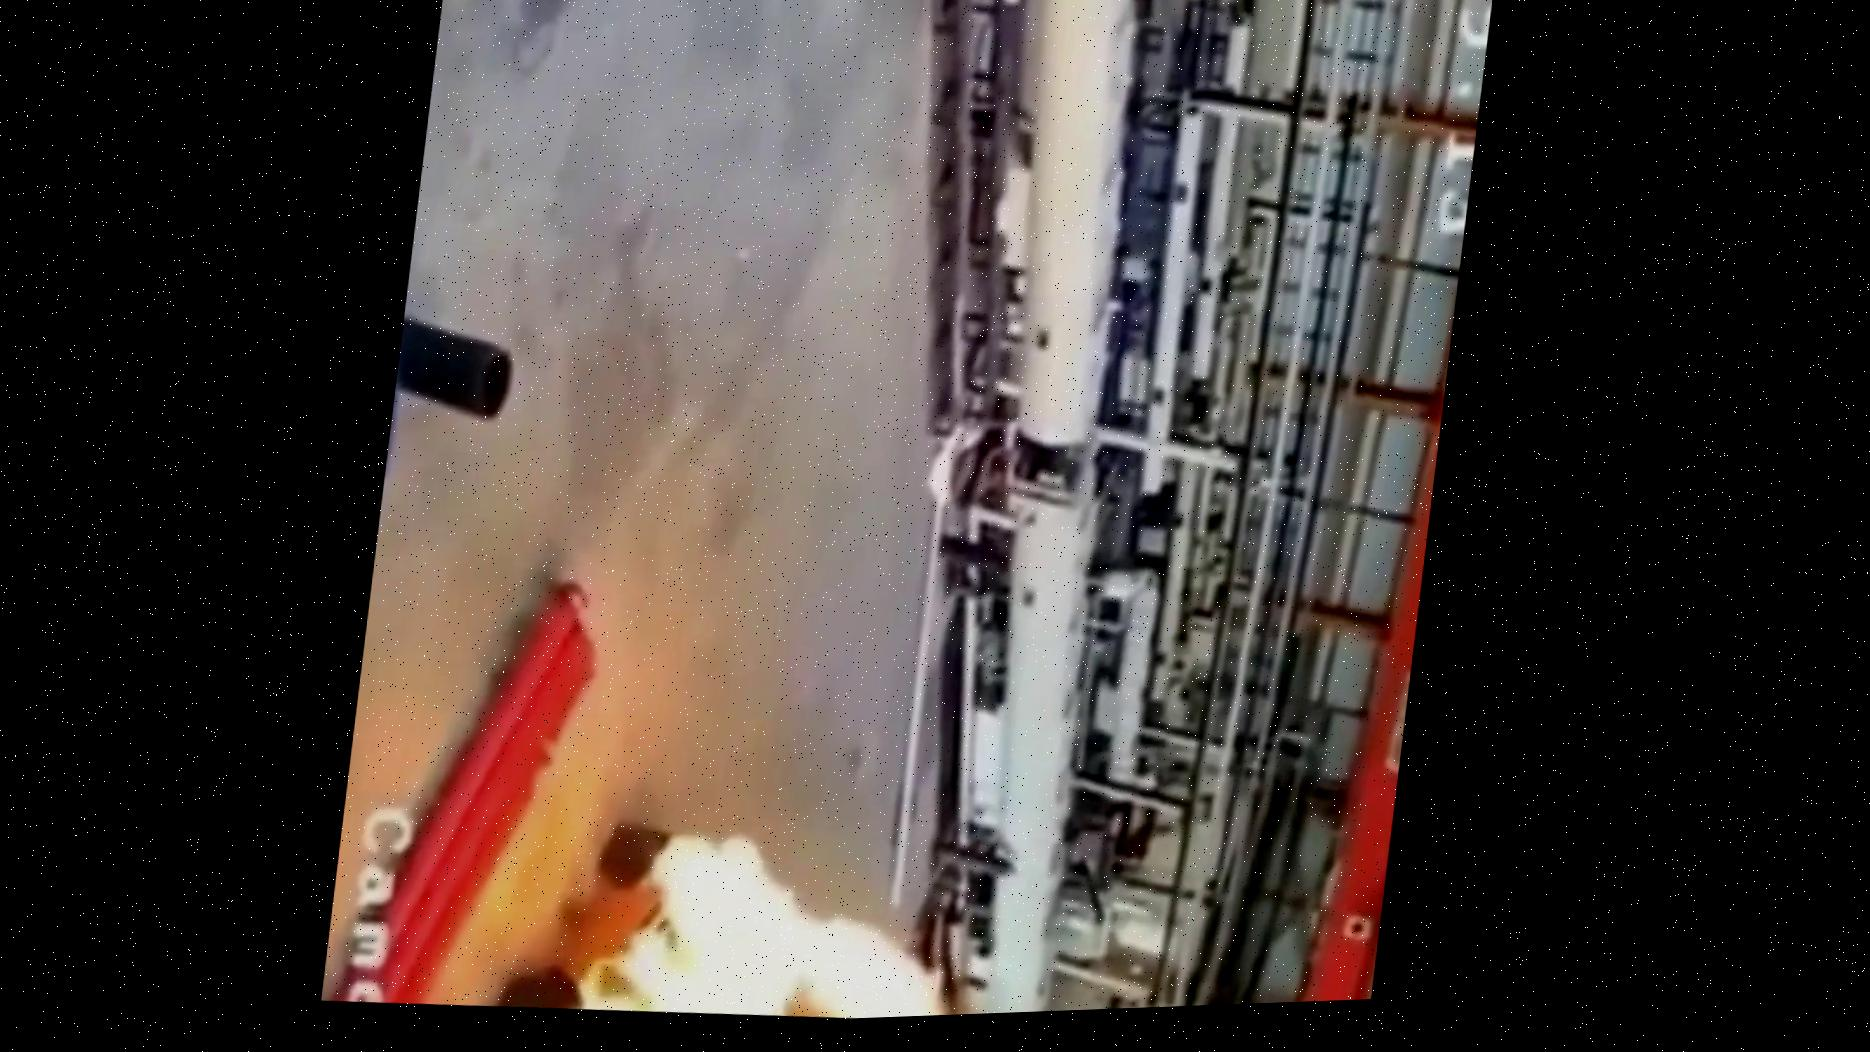fire: (498, 536, 1115, 1020)
